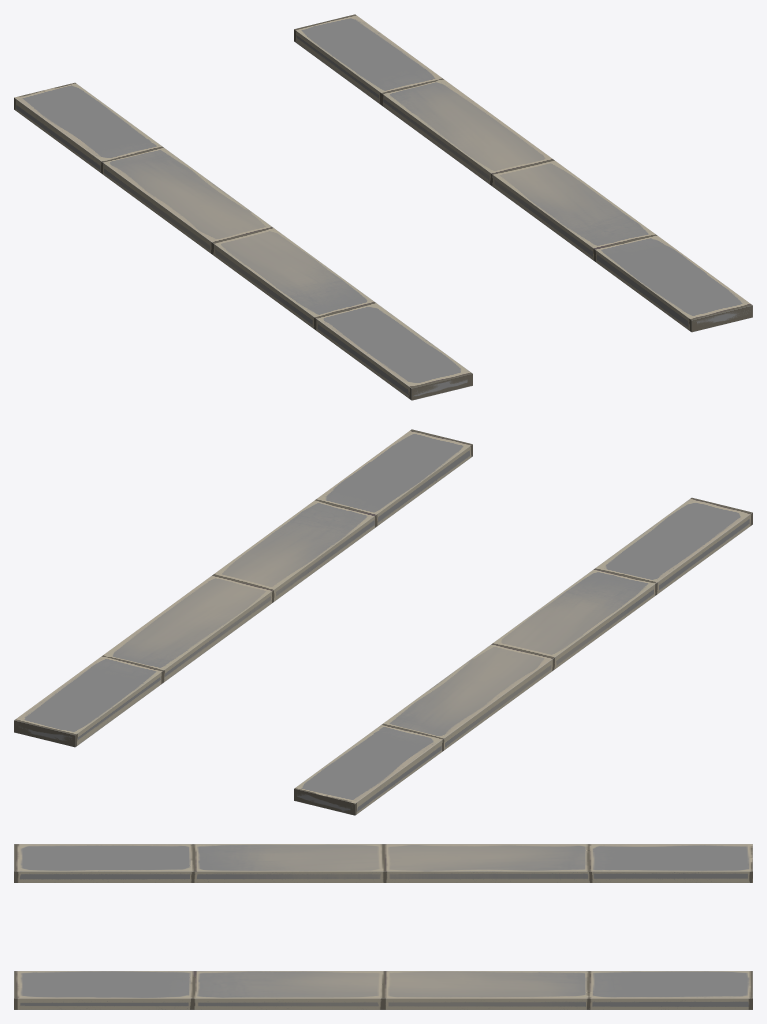
Rendered from SM_ARCH_SideWalkStraight_Tile.fbx.
3 views of the same model, one above another, from view 1: azimuth 30°, elevation 25°; view 2: azimuth 150°, elevation 25°; view 3: azimuth 270°, elevation 25° (orthographic). The views are drawn at different scales.
Parts seen in each view (by area): view 1: m_sidewalkStraight; view 2: m_sidewalkStraight; view 3: m_sidewalkStraight.
Boxes of the visible parts, left/top/right/bottom form: m_sidewalkStraight: left=14, top=14, right=752, bottom=400; m_sidewalkStraight: left=14, top=429, right=752, bottom=815; m_sidewalkStraight: left=14, top=844, right=752, bottom=1009.
Size of the model in its own units: 1114 by 37.69 by 2248.
1 material, 1 textured.
